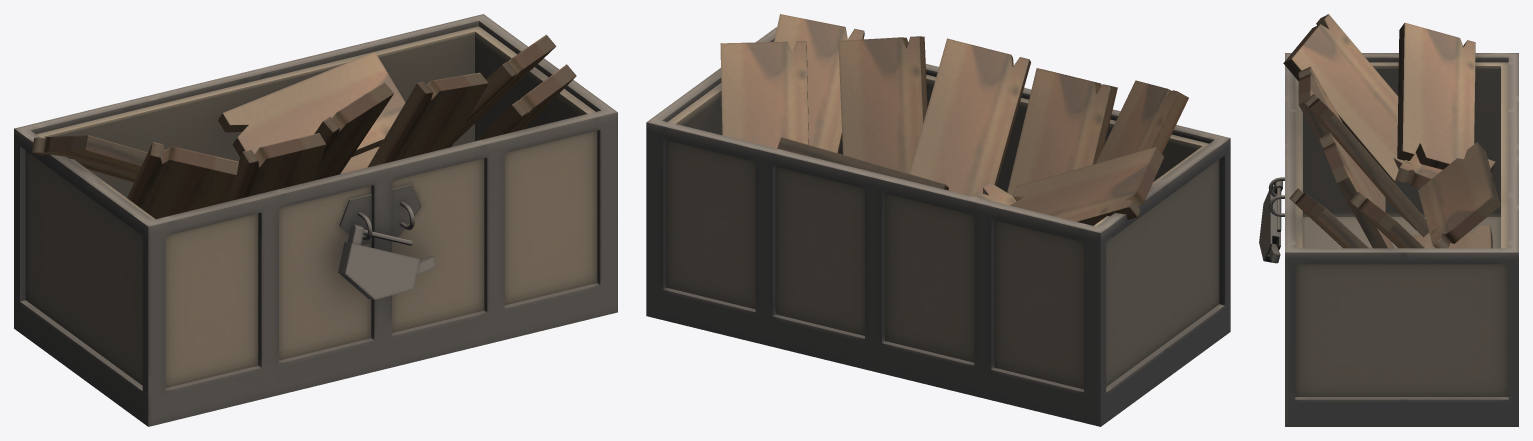
The model's file is Storage_Wood.fbx.
3 renders of one model, left to right at view 1: azimuth 30°, elevation 25°; view 2: azimuth 150°, elevation 25°; view 3: azimuth 270°, elevation 25°, orthographic. The views are drawn at different scales.
Parts seen in each view (by area): view 1: chestbox_cen3_hako_hakoShape; view 2: chestbox_cen3_hako_hakoShape; view 3: chestbox_cen3_hako_hakoShape.
Boxes of the visible parts, x1,y1,x2,y2 form: chestbox_cen3_hako_hakoShape: (14, 14, 617, 426); chestbox_cen3_hako_hakoShape: (646, 14, 1230, 426); chestbox_cen3_hako_hakoShape: (1259, 14, 1518, 426).
Size of the model in its own units: 3.15 by 1.63 by 1.69.
Materials: 1 (1 with a texture image).
